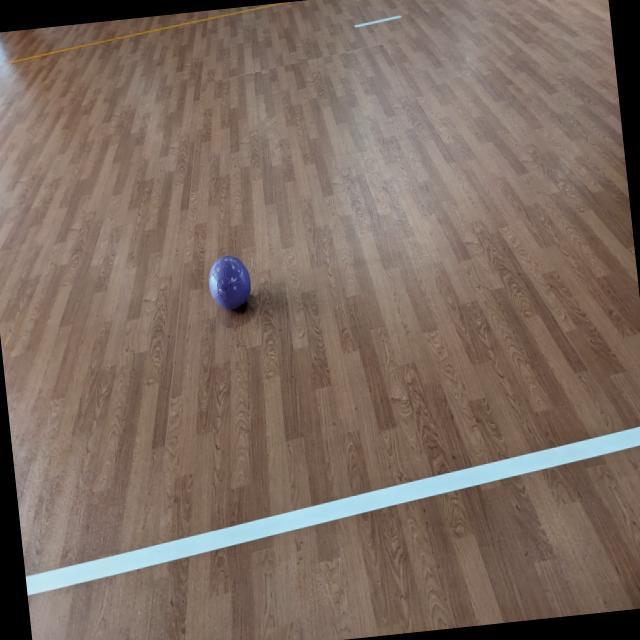purple_ball: (206, 250, 254, 312)
